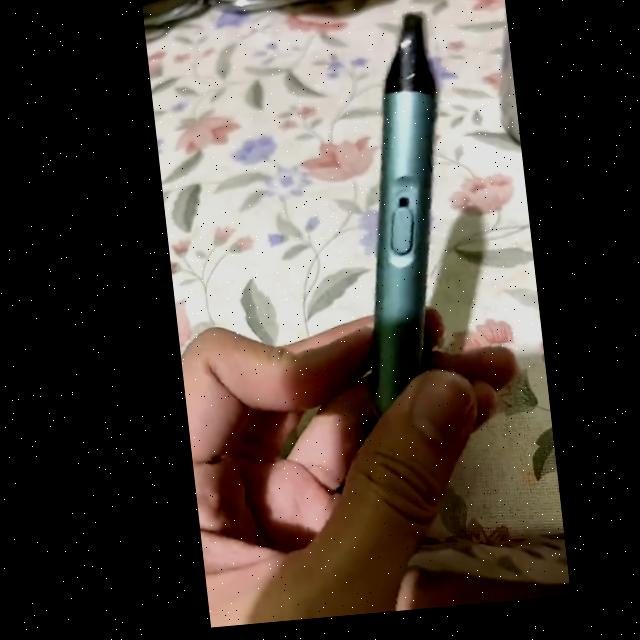vape: (326, 21, 464, 429)
